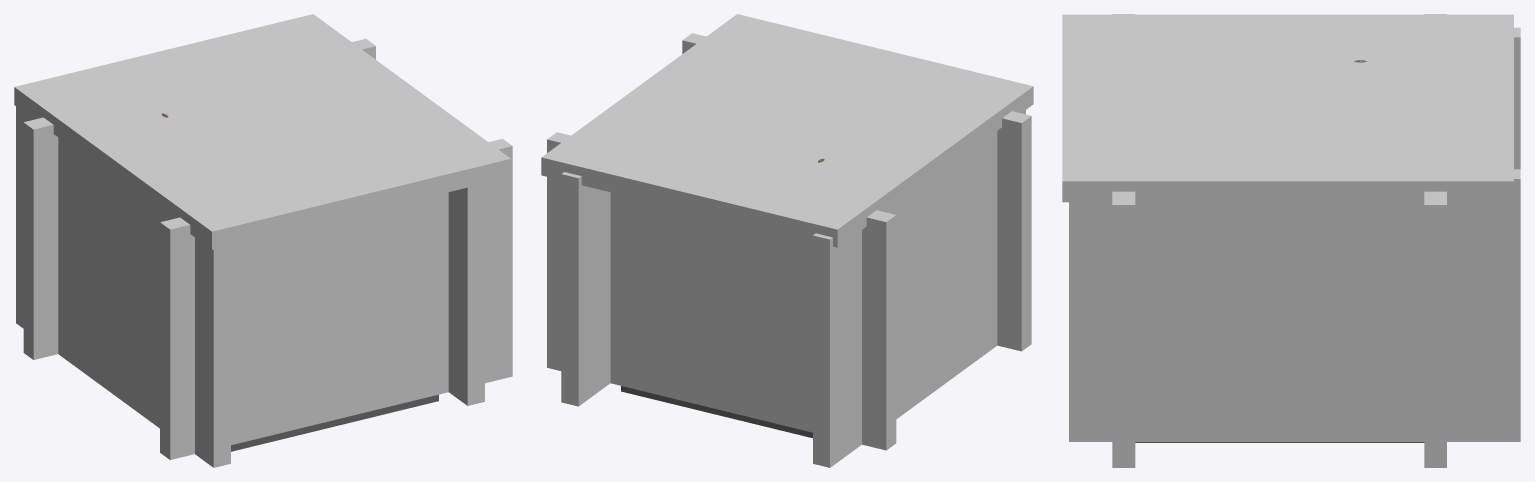
Rendered from room.fbx.
3 renders of one model, left to right at view 1: azimuth 30°, elevation 25°; view 2: azimuth 150°, elevation 25°; view 3: azimuth 270°, elevation 25°, orthographic. The views are drawn at different scales.
Parts seen in each view (by area): view 1: 立方体.005, 立方体.004, 立方体.001, 立方体.003, 立方体.002, 立方体; view 2: 立方体.005, 立方体.003, 立方体.001, 立方体.002, 立方体.004, 立方体; view 3: 立方体.002, 立方体.005, 立方体.004, 立方体.003, 立方体.001.
Part boxes in pixels (x1,y1,x2,y2): 立方体.005: (14,14,510,249); 立方体.004: (160,138,512,459); 立方体.001: (16,106,230,467); 立方体.003: (23,39,375,359); 立方体.002: (448,183,484,405); 立方体: (231,394,438,451); 立方体.005: (541,14,1033,247); 立方体.003: (547,132,896,450); 立方体.001: (813,110,1025,467); 立方体.002: (561,172,610,406); 立方体.004: (682,33,1031,351); 立方体: (621,386,812,438); 立方体.002: (1069,169,1520,441); 立方体.005: (1062,14,1513,202); 立方体.004: (1112,14,1135,467); 立方体.003: (1424,14,1446,467); 立方体.001: (1514,27,1520,169).
Bounding box in the file's own units: 3941 × 2769 × 3999.
17 materials, 17 textured.
